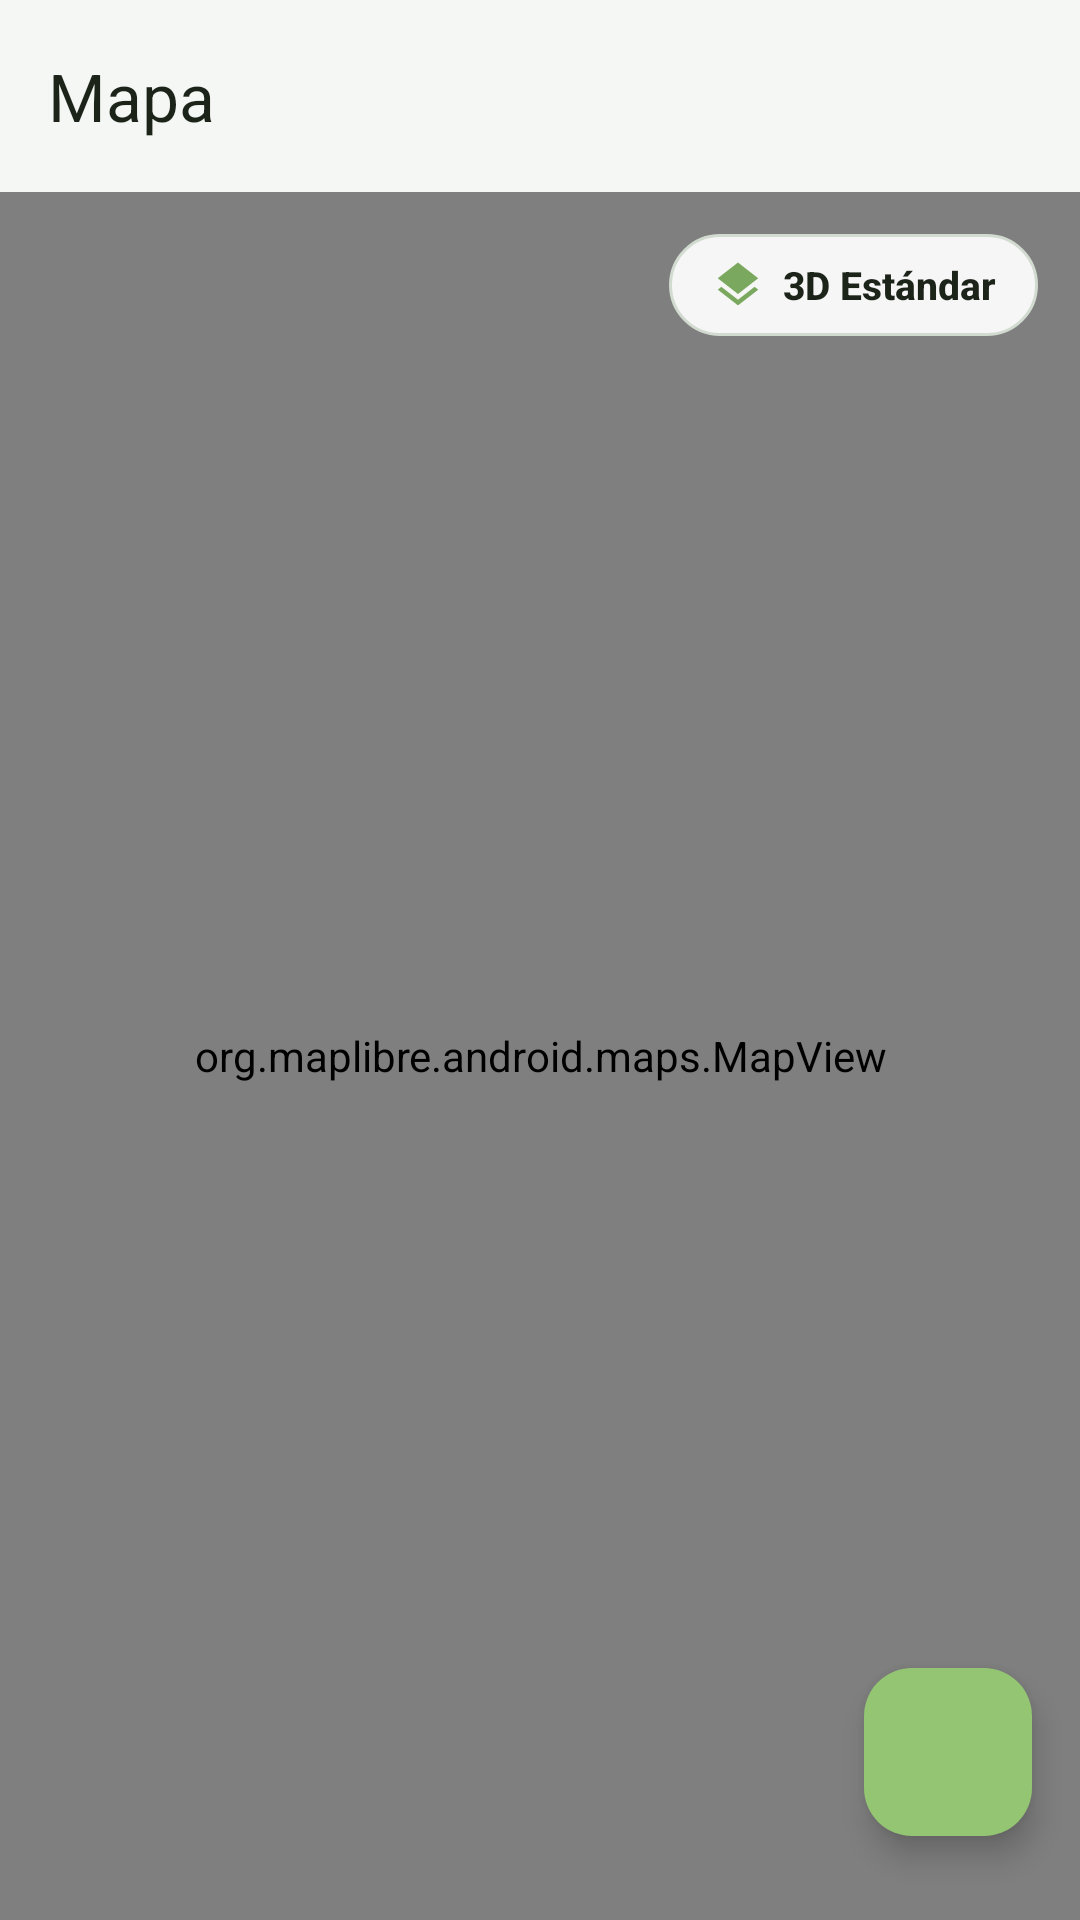

Where icons sit on this 1080×1920 app screen, as box(x1, y1, x2, y2):
layers: box(718, 262, 758, 305)
